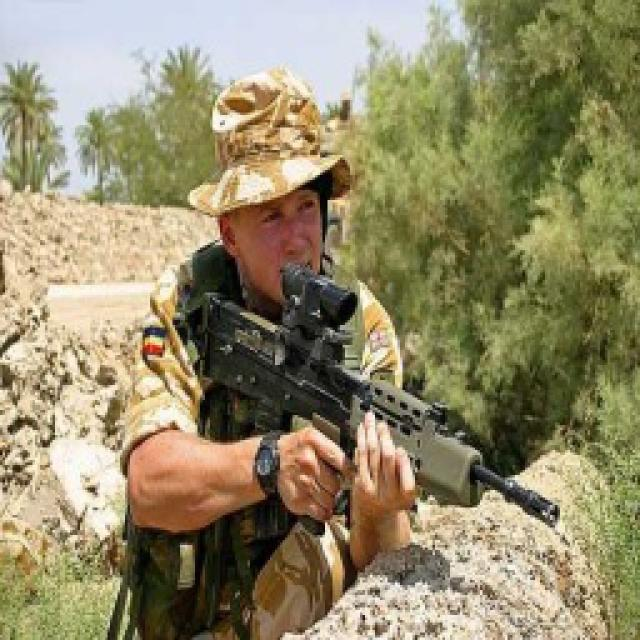long weapon: (160, 238, 572, 574)
